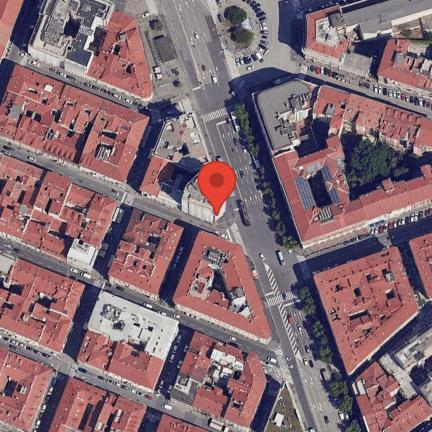area_open: (209, 0, 305, 94), (119, 0, 197, 108), (297, 204, 432, 263), (193, 80, 252, 134), (342, 42, 383, 81), (395, 14, 432, 39)
built: (315, 246, 420, 377), (173, 231, 270, 338), (273, 135, 344, 243), (85, 290, 181, 359), (335, 166, 432, 232), (30, 0, 115, 69), (90, 9, 154, 98), (256, 77, 321, 155), (0, 347, 55, 432), (0, 154, 47, 240), (56, 186, 120, 248), (51, 375, 116, 432), (225, 350, 268, 431), (345, 0, 432, 40), (107, 241, 170, 296), (156, 111, 209, 172), (123, 209, 185, 261), (0, 91, 55, 149), (140, 152, 201, 203), (378, 39, 432, 96), (305, 4, 356, 61), (54, 84, 106, 138), (93, 103, 153, 149), (84, 133, 138, 184), (362, 393, 432, 432), (6, 66, 66, 111), (108, 345, 164, 393), (352, 362, 400, 418), (32, 268, 84, 319), (0, 290, 49, 344), (177, 331, 220, 386), (343, 94, 391, 141), (377, 107, 425, 154), (266, 379, 307, 432), (181, 173, 232, 215), (35, 306, 78, 355), (316, 85, 354, 136), (394, 324, 432, 375), (44, 124, 87, 166), (34, 173, 72, 219), (382, 352, 419, 399), (408, 232, 432, 303), (49, 235, 97, 270), (22, 209, 60, 253), (78, 333, 118, 374), (0, 0, 25, 65), (2, 259, 41, 299), (104, 397, 148, 432), (209, 338, 239, 387), (197, 383, 233, 421), (323, 159, 352, 201), (154, 415, 213, 432), (227, 374, 258, 406), (170, 376, 203, 406), (411, 119, 432, 154), (414, 376, 432, 409)
vegetation_high: (344, 133, 431, 196)
vegetation_low: (235, 101, 304, 255), (298, 280, 365, 432)
